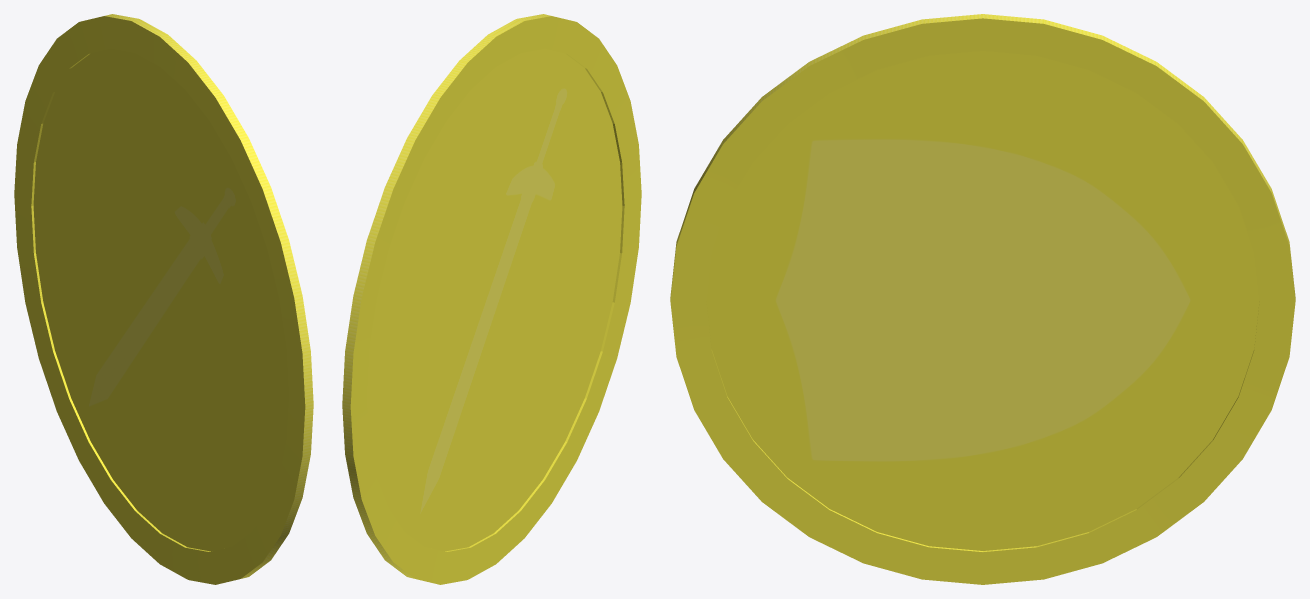
The model's file is coin.fbx.
The picture shows the model from 3 angles, left to right: view 1: azimuth 30°, elevation 25°; view 2: azimuth 150°, elevation 25°; view 3: azimuth 270°, elevation 25°; orthographic projection. The views are drawn at different scales.
Parts seen in each view (by area): view 1: coin; view 2: coin; view 3: coin.
Boxes of the visible parts, x1,y1,x2,y2 form: coin: (14,14,313,584); coin: (342,14,641,584); coin: (670,14,1295,584).
Bounding box in the file's own units: 0.0109 × 0.6554 × 0.6554.
